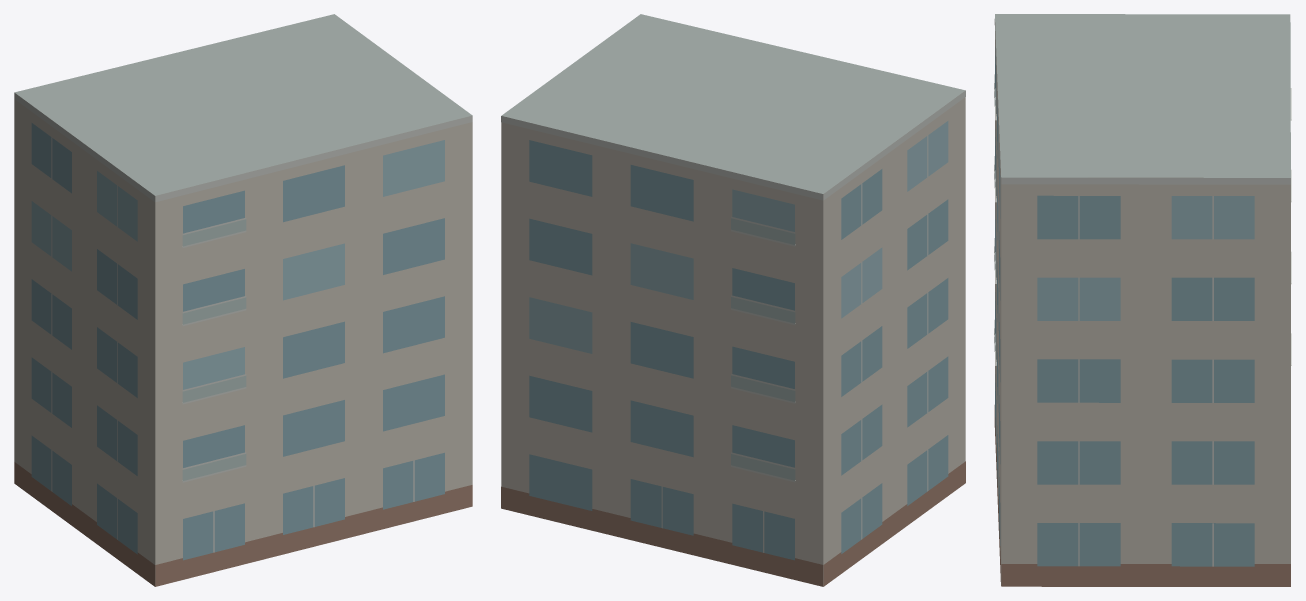
Rendered from survey-upis-32583413.glb.
The picture shows the model from 3 angles, left to right: view 1: azimuth 30°, elevation 25°; view 2: azimuth 150°, elevation 25°; view 3: azimuth 270°, elevation 25°; orthographic projection. The views are drawn at different scales.
Parts seen in each view (by area): view 1: survey-upis-32583413.tmp; view 2: survey-upis-32583413.tmp; view 3: survey-upis-32583413.tmp.
Part boxes in pixels (x1=…): survey-upis-32583413.tmp: x1=14, y1=14, x2=472, y2=586; survey-upis-32583413.tmp: x1=501, y1=14, x2=965, y2=586; survey-upis-32583413.tmp: x1=994, y1=14, x2=1291, y2=586.
Size of the model in its own units: 12.72 by 14.8 by 9.76.
